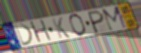D: (13, 22, 35, 48)
H: (28, 18, 54, 45)
K: (51, 17, 72, 40)
M: (101, 5, 129, 33)
O: (69, 13, 88, 38)
P: (87, 9, 105, 35)
